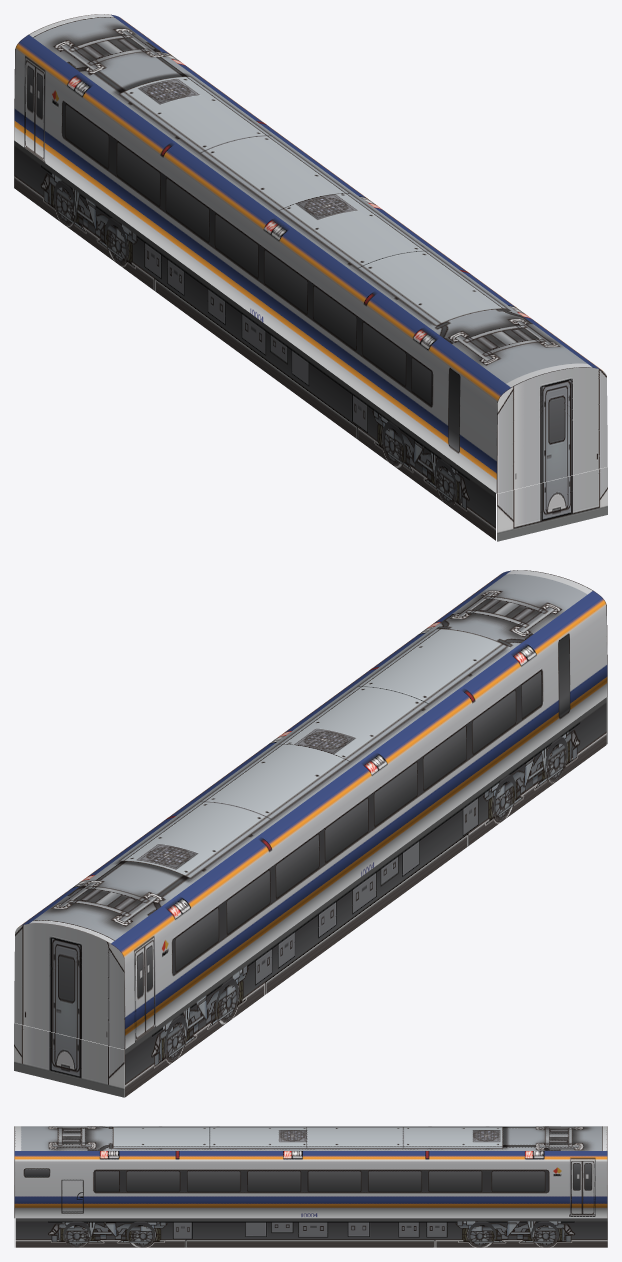
Rendered from car3.glb.
3 renders of one model, top to bottom at view 1: azimuth 30°, elevation 25°; view 2: azimuth 150°, elevation 25°; view 3: azimuth 270°, elevation 25°, orthographic. The views are drawn at different scales.
Visible parts, largest first — view 1: nankai-10000-car3; view 2: nankai-10000-car3; view 3: nankai-10000-car3.
Part boxes in pixels (left/top/right/bottom): nankai-10000-car3: left=14, top=14, right=607, bottom=541; nankai-10000-car3: left=14, top=570, right=607, bottom=1097; nankai-10000-car3: left=14, top=1126, right=607, bottom=1247.
Bounding box in the file's own units: 2.74 × 3.7 × 20.75.
9 materials, 8 textured.
